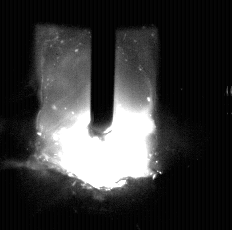arame: (92, 0, 115, 139)
poca: (46, 0, 154, 230)
